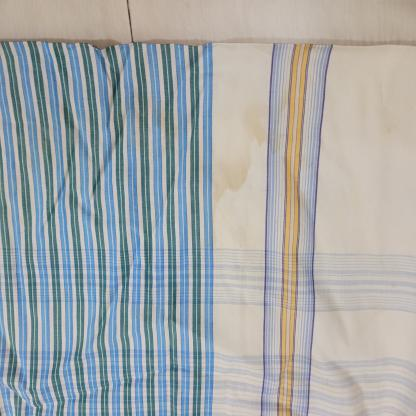spot: (210, 93, 299, 221), (132, 88, 166, 131), (235, 226, 246, 246), (212, 228, 218, 246), (301, 44, 318, 50), (384, 124, 392, 134)
